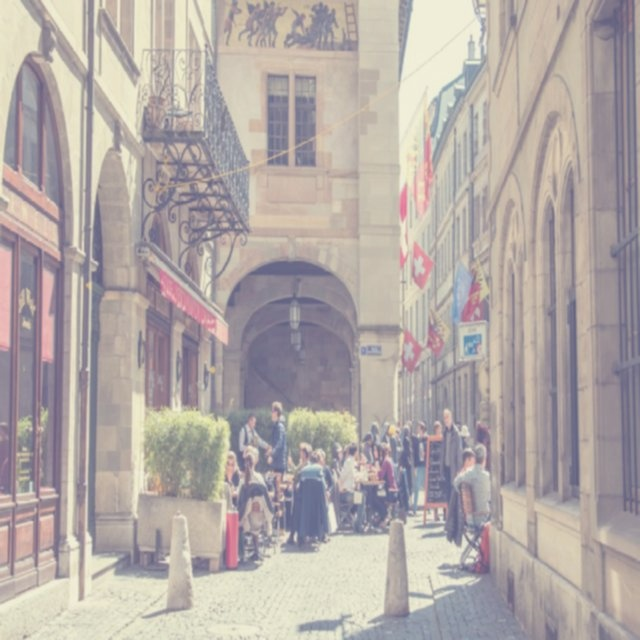pessoa: (220, 0, 346, 51), (452, 441, 494, 533), (234, 451, 266, 566), (264, 400, 288, 538), (456, 446, 492, 532), (337, 441, 367, 533), (438, 408, 464, 510), (237, 411, 274, 480), (371, 440, 398, 528), (410, 419, 432, 517), (224, 449, 244, 508), (398, 424, 412, 506), (406, 418, 418, 507), (381, 418, 404, 464), (362, 418, 382, 470), (287, 440, 313, 477), (318, 448, 334, 501), (327, 439, 344, 481), (456, 421, 470, 449), (244, 444, 260, 466), (298, 446, 310, 470), (340, 441, 350, 462), (432, 418, 443, 436)
